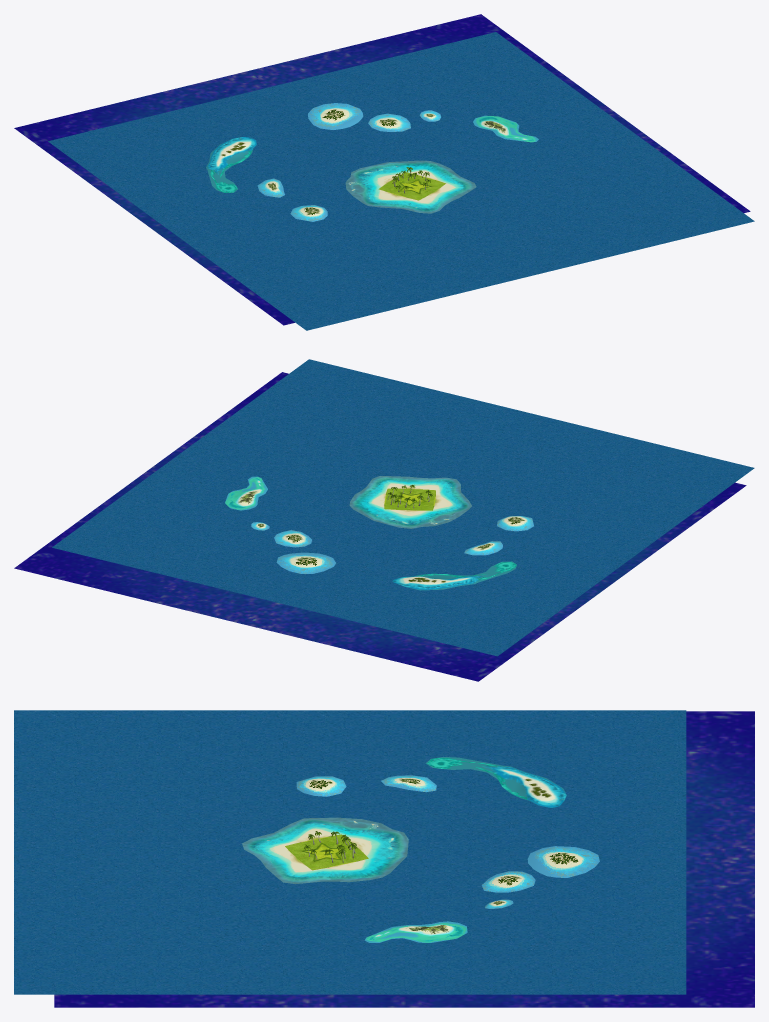
The model's file is Island.dae.
3 views of the same model, one above another, from view 1: azimuth 30°, elevation 25°; view 2: azimuth 150°, elevation 25°; view 3: azimuth 270°, elevation 25° (orthographic). The views are drawn at different scales.
Visible parts, largest first — view 1: DrawCall_0043, DrawCall_0005, DrawCall_0045, DrawCall_0044, DrawCall_0046, DrawCall_0051, DrawCall_0048, DrawCall_0047; view 2: DrawCall_0043, DrawCall_0005, DrawCall_0045, DrawCall_0044, DrawCall_0046, DrawCall_0051, DrawCall_0048, DrawCall_0047; view 3: DrawCall_0043, DrawCall_0005, DrawCall_0045, DrawCall_0044, DrawCall_0046, DrawCall_0051, DrawCall_0048, DrawCall_0047, DrawCall_0049.
Part boxes in pixels (left/top/right/bottom): DrawCall_0043: left=48, top=32, right=754, bottom=330; DrawCall_0005: left=14, top=14, right=750, bottom=325; DrawCall_0045: left=345, top=160, right=476, bottom=213; DrawCall_0044: left=308, top=103, right=410, bottom=131; DrawCall_0046: left=206, top=137, right=256, bottom=192; DrawCall_0051: left=378, top=172, right=445, bottom=200; DrawCall_0048: left=473, top=115, right=538, bottom=142; DrawCall_0047: left=290, top=110, right=440, bottom=221; DrawCall_0043: left=52, top=359, right=754, bottom=656; DrawCall_0005: left=14, top=372, right=746, bottom=681; DrawCall_0045: left=349, top=476, right=471, bottom=528; DrawCall_0044: left=274, top=530, right=335, bottom=573; DrawCall_0046: left=392, top=561, right=516, bottom=590; DrawCall_0051: left=384, top=488, right=435, bottom=510; DrawCall_0048: left=225, top=476, right=267, bottom=510; DrawCall_0047: left=251, top=516, right=533, bottom=531; DrawCall_0043: left=14, top=710, right=686, bottom=994; DrawCall_0005: left=54, top=711, right=754, bottom=1007; DrawCall_0045: left=242, top=817, right=408, bottom=884; DrawCall_0044: left=481, top=846, right=599, bottom=892; DrawCall_0046: left=425, top=756, right=566, bottom=807; DrawCall_0051: left=285, top=834, right=368, bottom=870; DrawCall_0048: left=364, top=921, right=467, bottom=942; DrawCall_0047: left=296, top=776, right=513, bottom=908; DrawCall_0049: left=381, top=775, right=436, bottom=792.
Bounding box in the file's own units: 22501 × 738 × 23797.
Materials: 9 (9 with a texture image).
